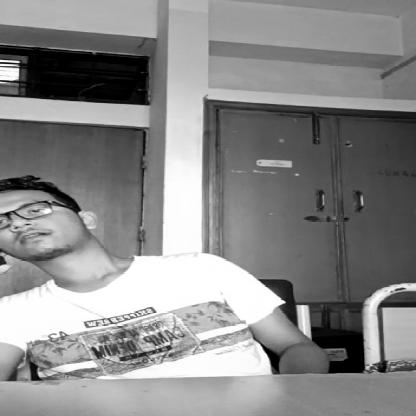Distracted: (3, 184, 92, 269)
